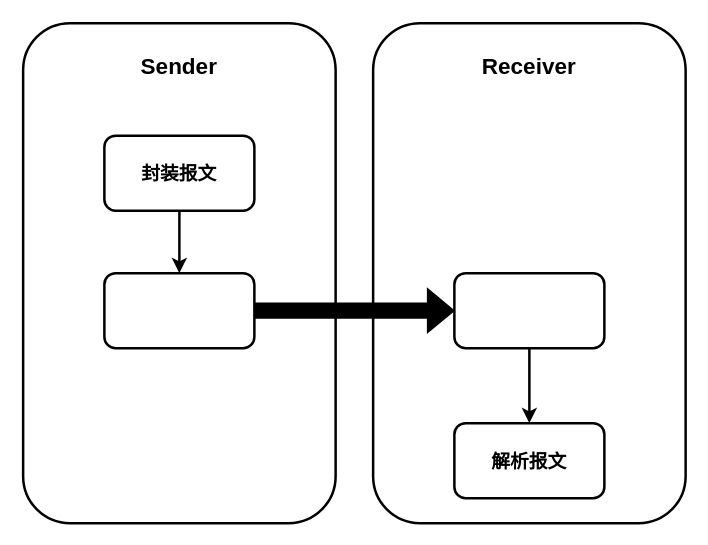
This 708x545 diagram has some shape labels left out. Here are the shapes that lost their labels. From the top down, the centre of each, then its label:
the point at 178,310: 发送报文
the point at 528,310: 接收报文
